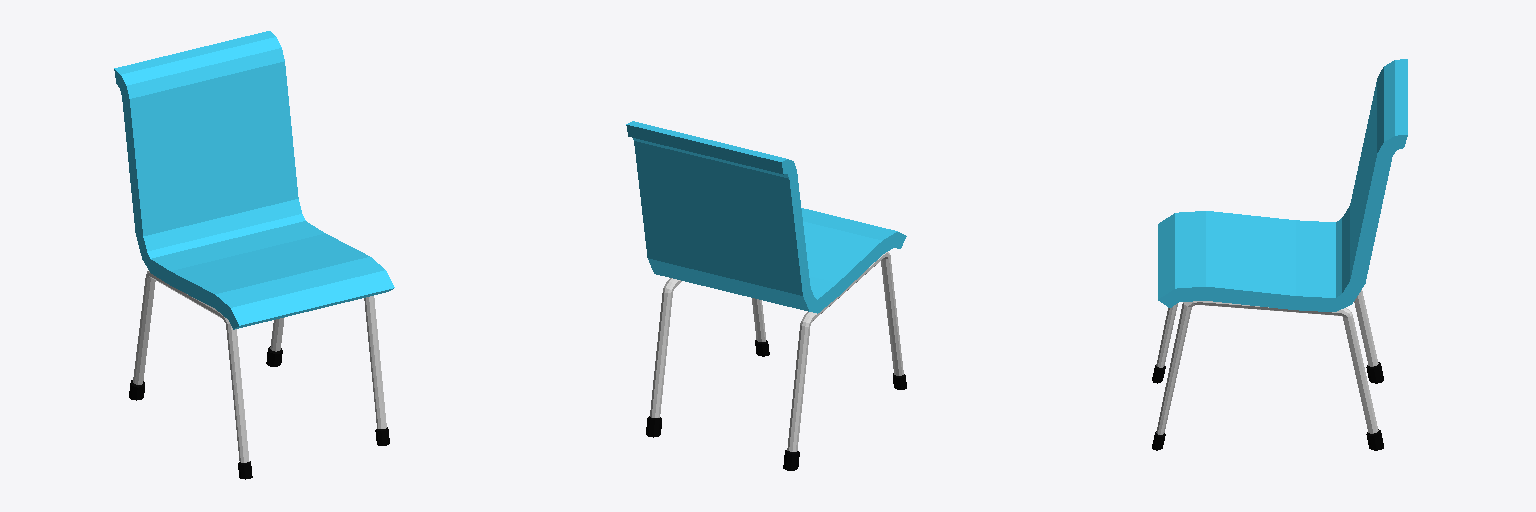
File: VRChair_3D.obj
3 views of the same model, side by side, from view 1: azimuth 30°, elevation 25°; view 2: azimuth 150°, elevation 25°; view 3: azimuth 270°, elevation 25° (orthographic).
Visible parts, largest first — view 1: Chair_3D; view 2: Chair_3D; view 3: Chair_3D.
Part boxes in pixels (x1,y1,x2,y2): Chair_3D: (114, 31, 394, 479); Chair_3D: (626, 121, 906, 470); Chair_3D: (1152, 59, 1407, 450).
Bounding box in the file's own units: 11.47 × 22.5 × 16.4.